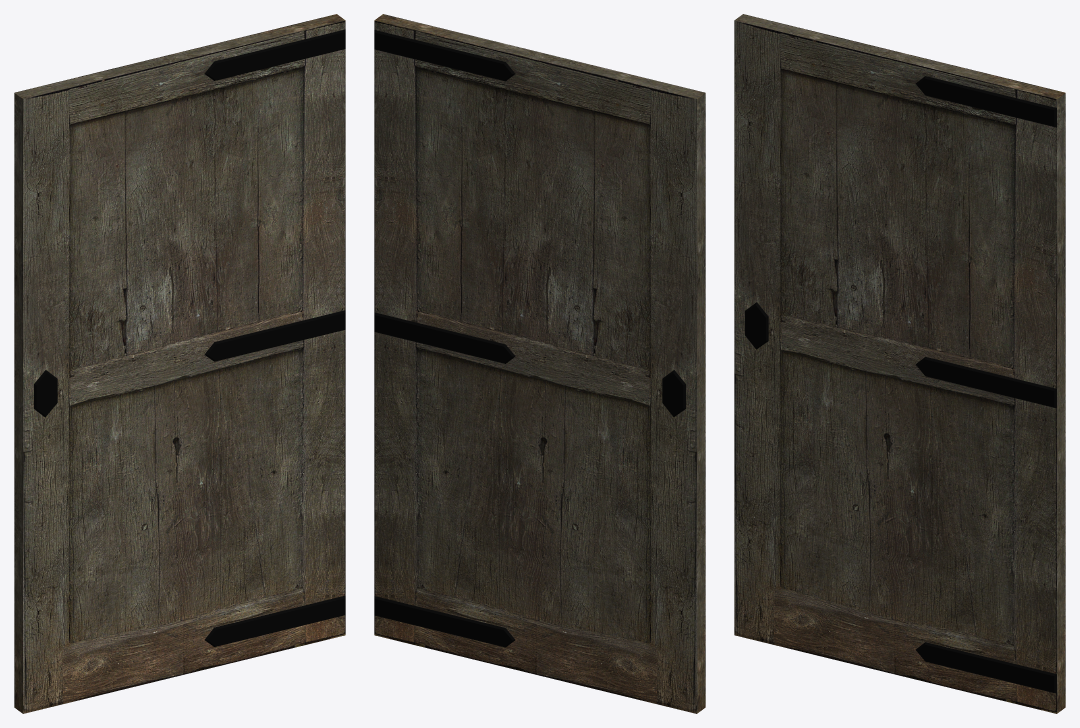
The model's file is Doors1.fbx.
3 renders of one model, left to right at view 1: azimuth 30°, elevation 25°; view 2: azimuth 150°, elevation 25°; view 3: azimuth 330°, elevation 25°, orthographic.
Visible parts, largest first — view 1: polySurface488; view 2: polySurface488; view 3: polySurface488.
Part boxes in pixels (x1,y1,x2,y2): polySurface488: (14, 14, 345, 713); polySurface488: (374, 14, 705, 713); polySurface488: (734, 14, 1065, 713).
Bounding box in the file's own units: 1.15 × 2.09 × 0.0686.
